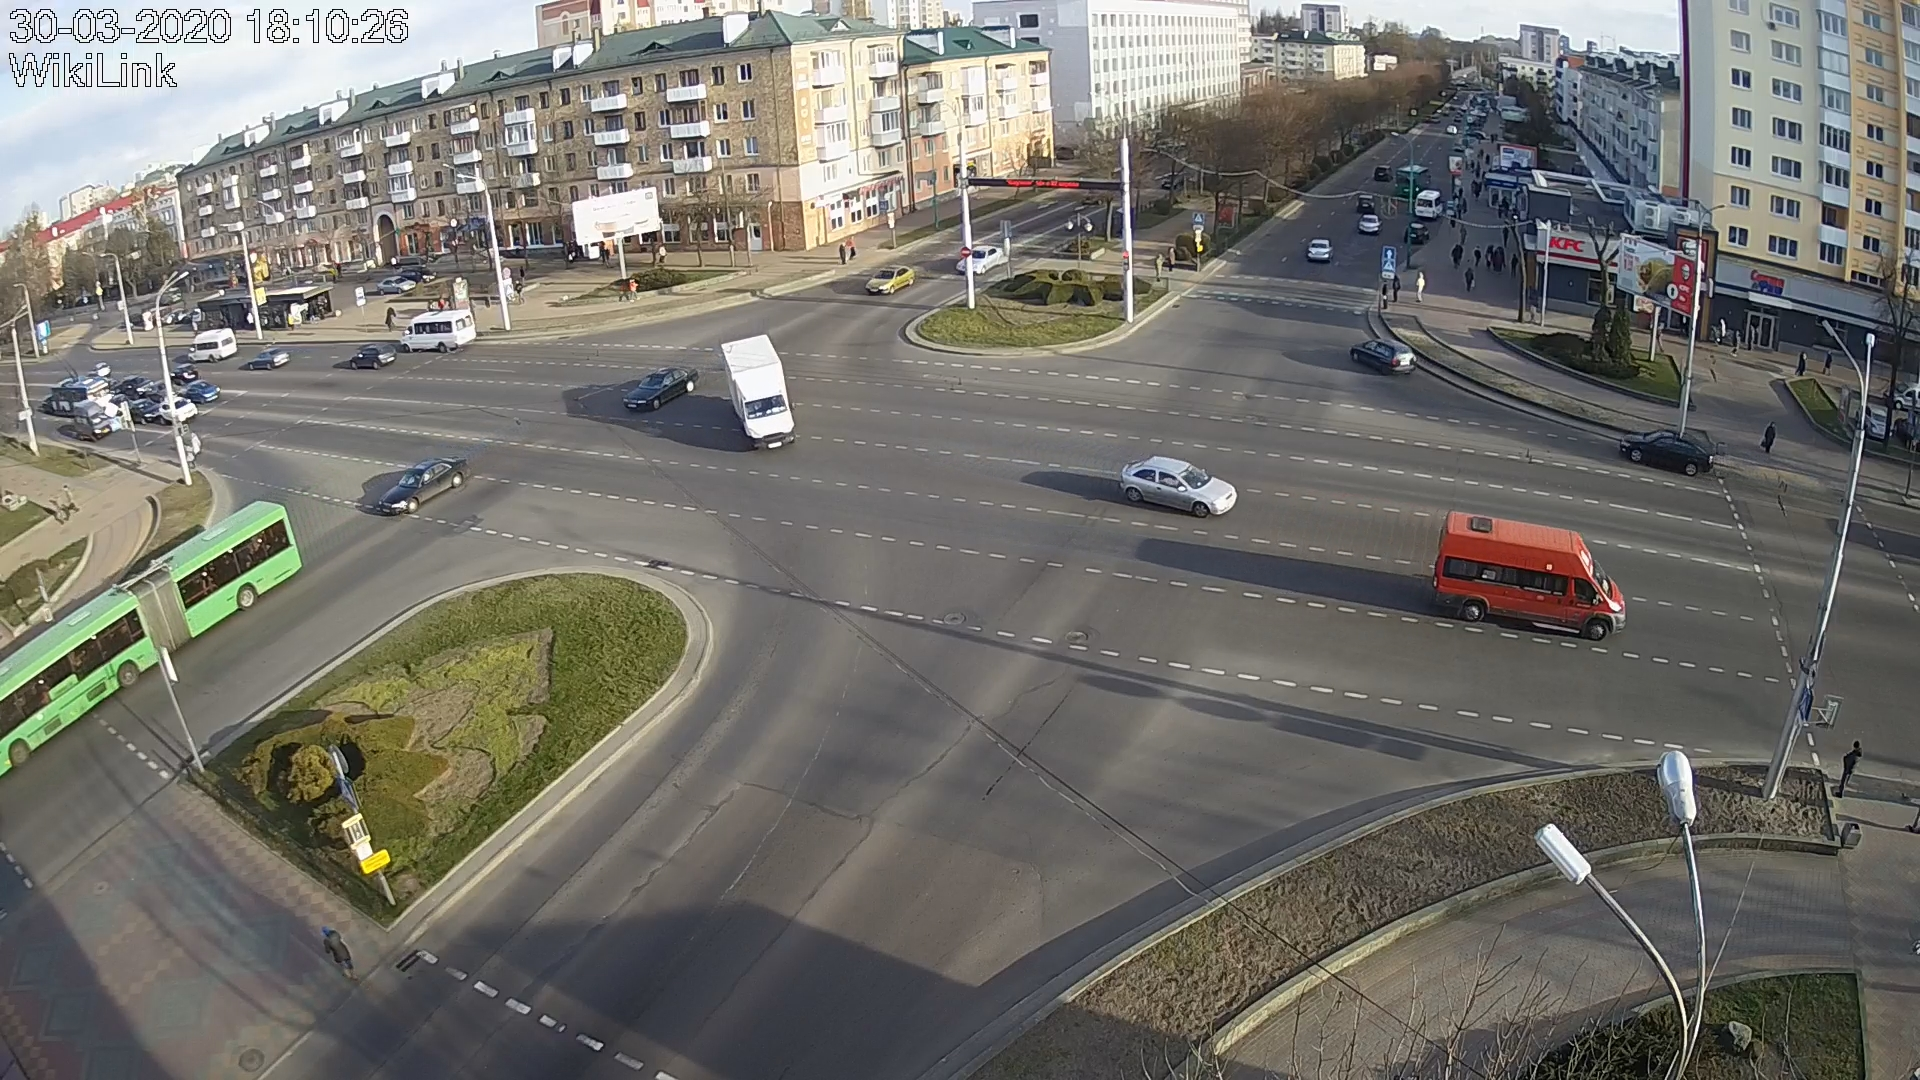bus: (1, 500, 305, 769), (51, 376, 109, 414)
car: (1432, 510, 1627, 642), (720, 334, 796, 451), (1120, 455, 1238, 518), (378, 456, 469, 516), (1617, 430, 1714, 476), (622, 364, 698, 411), (400, 310, 477, 353), (1348, 338, 1416, 376), (189, 328, 237, 363), (73, 400, 112, 440), (865, 264, 915, 294), (349, 342, 397, 371), (955, 247, 1004, 274), (160, 396, 198, 425), (183, 378, 222, 405), (248, 348, 291, 371), (131, 398, 162, 425)
